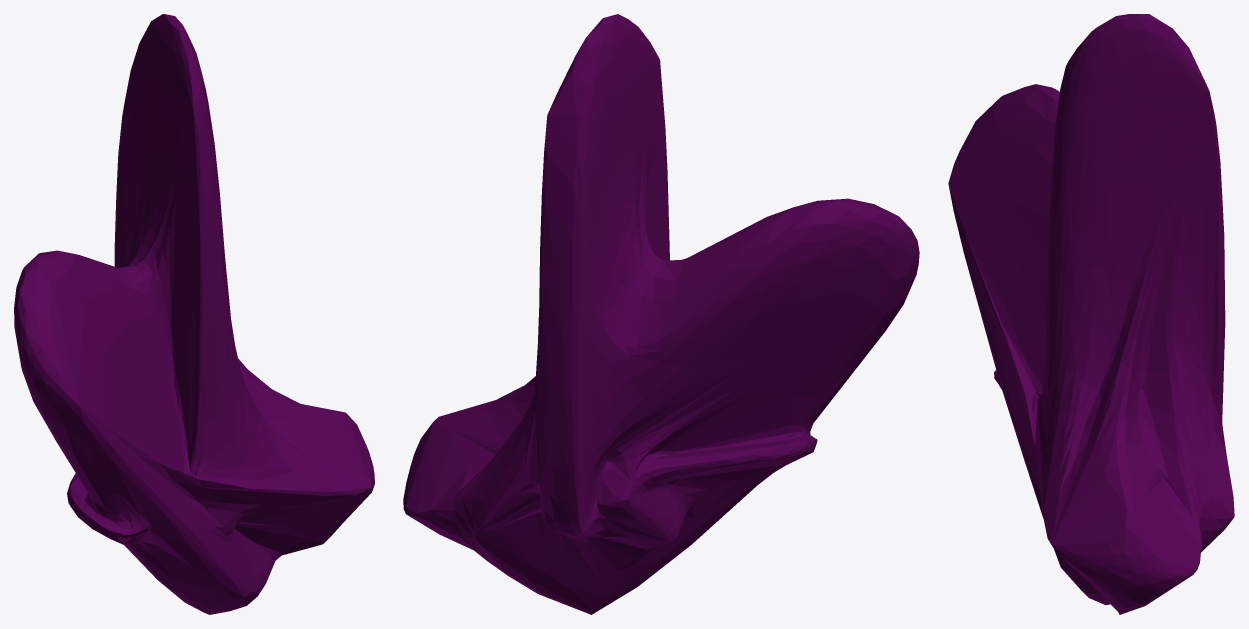
The picture shows the model from 3 angles, left to right: view 1: azimuth 30°, elevation 25°; view 2: azimuth 150°, elevation 25°; view 3: azimuth 270°, elevation 25°; orthographic projection. The views are drawn at different scales.
Visible parts, largest first — view 1: 130_Cube.539; view 2: 130_Cube.539; view 3: 130_Cube.539.
Boxes of the visible parts, x1,y1,x2,y2 form: 130_Cube.539: (14,14,374,614); 130_Cube.539: (403,14,919,614); 130_Cube.539: (948,14,1234,614).
Bounding box in the file's own units: 9.99 × 13.76 × 6.22.
